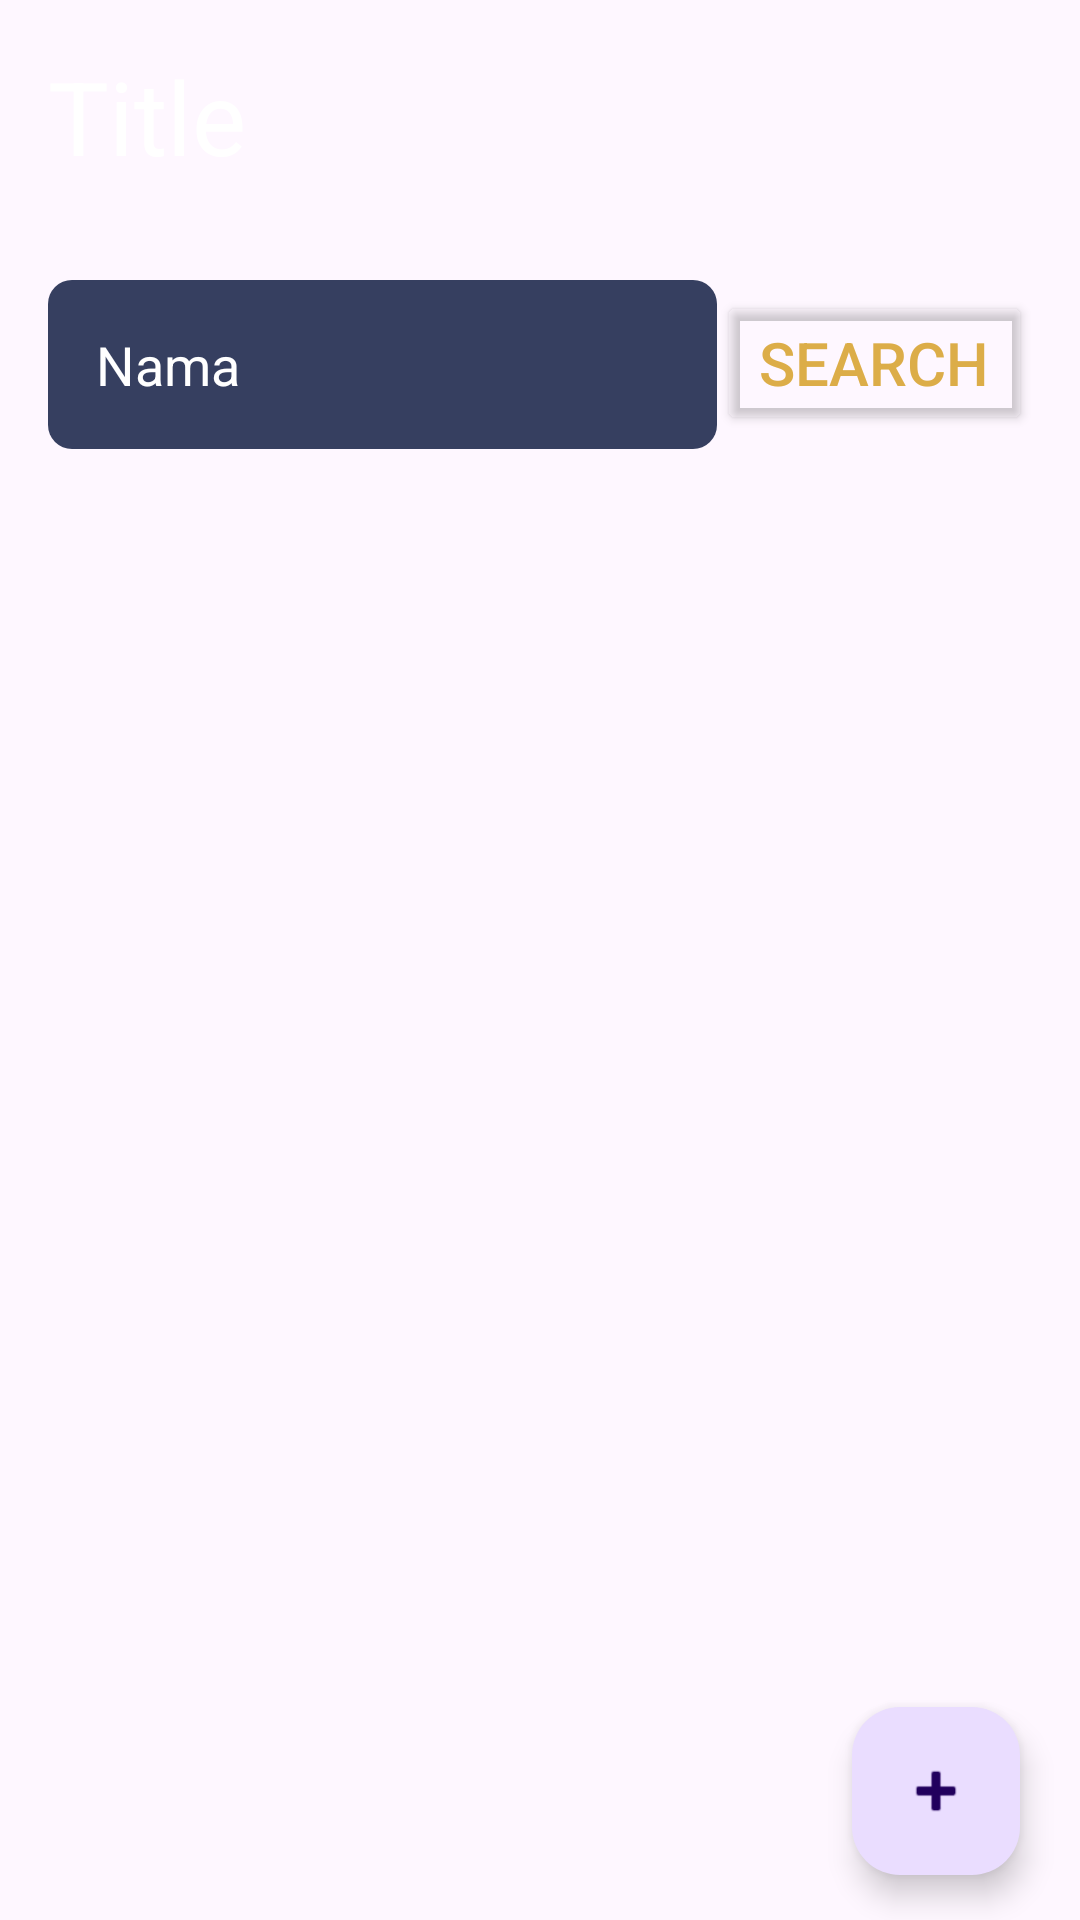

Icon bounding boxes for this 1080×1920 phone screenshot, format (x1, y1, x2, y2):
add: (852, 1707, 1020, 1875)
